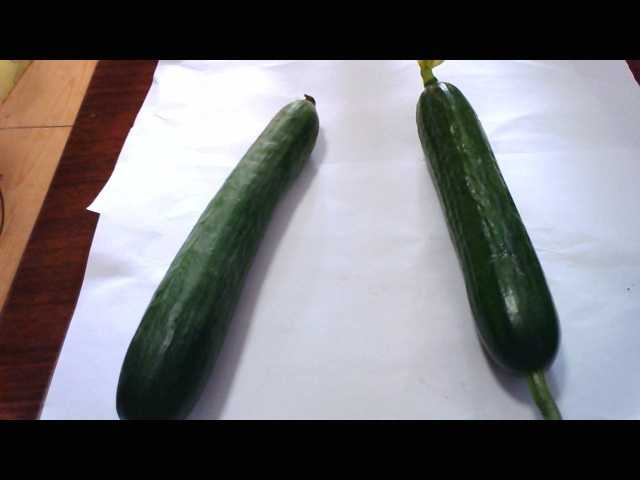cucumber: (116, 93, 319, 411), (398, 72, 581, 421)
